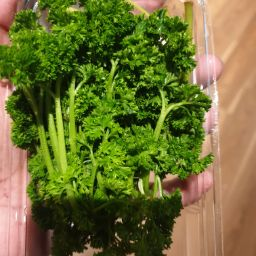Parsley: (20, 2, 212, 175), (6, 90, 188, 256), (2, 9, 156, 190)
